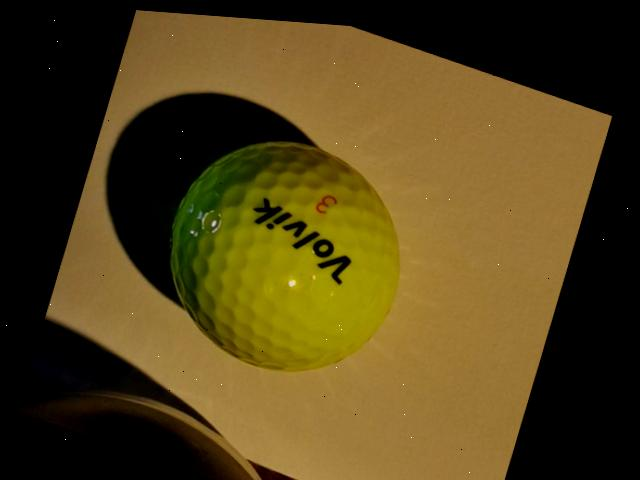Ball: (144, 100, 433, 401)
Volvik: (243, 189, 364, 281)
